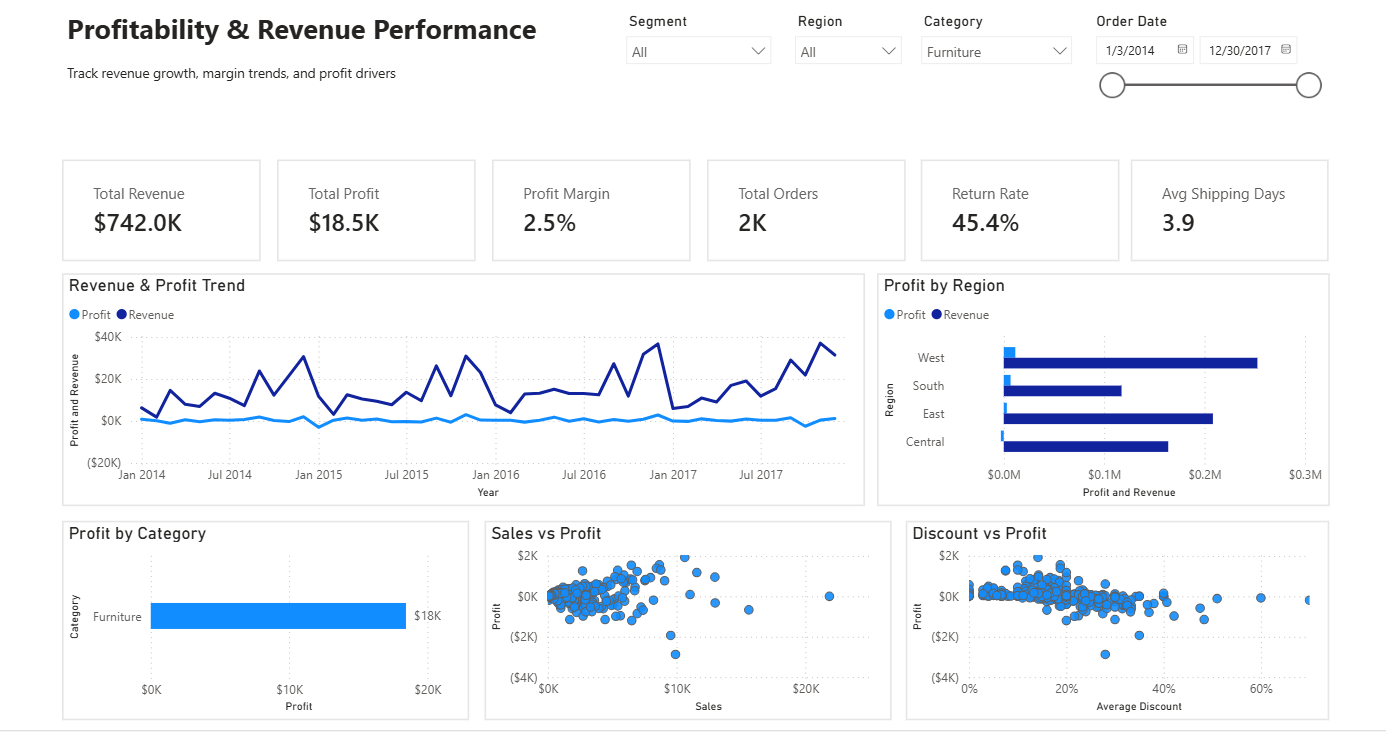

The page's visual inventory and layout, read from the dashboard file:
{"tool":"powerbi","page":{"name":"Page 1","canvas":[1280,720],"ordinal":0},"visuals":[{"type":"cardVisual","fields":{"Data":["superstore_processed.Total Revenue"]},"box":[19.6,160.2,195,100.3],"z":0},{"type":"cardVisual","fields":{"Data":["superstore_processed.Total Profit"]},"box":[230.9,160.2,195,100.3],"z":1000},{"type":"cardVisual","fields":{"Data":["superstore_processed.Profit Margin"]},"box":[442.1,160.2,195,100.3],"z":2000},{"type":"cardVisual","fields":{"Data":["superstore_processed.Total Orders"]},"box":[652.9,160.2,195,100.3],"z":3000},{"type":"cardVisual","fields":{"Data":["superstore_processed.Return Rate"]},"box":[863.6,160.2,195,100.3],"z":4000},{"type":"lineChart","title":"Revenue & Profit Trend","fields":{"Category":["superstore_processed.Order Date.Variation.Date Hierarchy.Year","superstore_processed.Order Date.Variation.Date Hierarchy.Month"],"Y":["superstore_processed.Total Profit","superstore_processed.Total Revenue"]},"box":[20,271.2,788.8,228.8],"z":5000},{"type":"clusteredBarChart","title":"Profit by Category","fields":{"Category":["superstore_processed.Category"],"Y":["superstore_processed.Total Profit"]},"box":[20,515,400,196.2],"z":6000},{"type":"scatterChart","title":"Sales vs Profit","fields":{"X":["Sum(superstore_processed.Sales)"],"Y":["Sum(superstore_processed.Profit)"],"Category":["superstore_processed.Product Name"]},"box":[434.4,515,400,196],"z":7000},{"type":"scatterChart","title":"Discount vs Profit","fields":{"X":["Avg(superstore_processed.Discount)"],"Y":["Sum(superstore_processed.Profit)"],"Category":["superstore_processed.Product Name"]},"box":[848.8,515,416.2,196],"z":8000},{"type":"clusteredBarChart","title":"Profit by Region","fields":{"Category":["superstore_processed.Region"],"Y":["superstore_processed.Total Profit","superstore_processed.Total Revenue"]},"box":[820,271.2,445,228.8],"z":9000},{"type":"slicer","fields":{"Values":["superstore_processed.Region"]},"box":[728.8,10,125,85],"z":10000},{"type":"slicer","fields":{"Values":["superstore_processed.Segment"]},"box":[563.8,10,162.5,67.5],"z":11000},{"type":"slicer","fields":{"Values":["superstore_processed.Category"]},"box":[853.8,10,168.8,85],"z":12000},{"type":"slicer","fields":{"Values":["superstore_processed.Order Date"]},"box":[1022.5,10,242.5,150],"z":13000},{"type":"textbox","box":[20,7.5,543.8,115],"z":14000},{"type":"cardVisual","fields":{"Data":["superstore_processed.Avg Shipping Days"]},"box":[1070,160.2,194.4,100.3],"z":15000}]}

Visuals, with their boxes on the page's 1280x720 design canvas (x1, y1, x2, y2). These are canvas units, not pixel positions in the 1386x732 screenshot, which may show the page scaled, cropped or inside an application window:
cardVisual - superstore_processed.Total Revenue: (20,160,215,260)
cardVisual - superstore_processed.Total Profit: (231,160,426,260)
cardVisual - superstore_processed.Profit Margin: (442,160,637,260)
cardVisual - superstore_processed.Total Orders: (653,160,848,260)
cardVisual - superstore_processed.Return Rate: (864,160,1059,260)
"Revenue & Profit Trend" lineChart: (20,271,809,500)
"Profit by Category" clusteredBarChart: (20,515,420,711)
"Sales vs Profit" scatterChart: (434,515,834,711)
"Discount vs Profit" scatterChart: (849,515,1265,711)
"Profit by Region" clusteredBarChart: (820,271,1265,500)
slicer - superstore_processed.Region: (729,10,854,95)
slicer - superstore_processed.Segment: (564,10,726,78)
slicer - superstore_processed.Category: (854,10,1023,95)
slicer - superstore_processed.Order Date: (1022,10,1265,160)
textbox: (20,8,564,122)
cardVisual - superstore_processed.Avg Shipping Days: (1070,160,1264,260)
